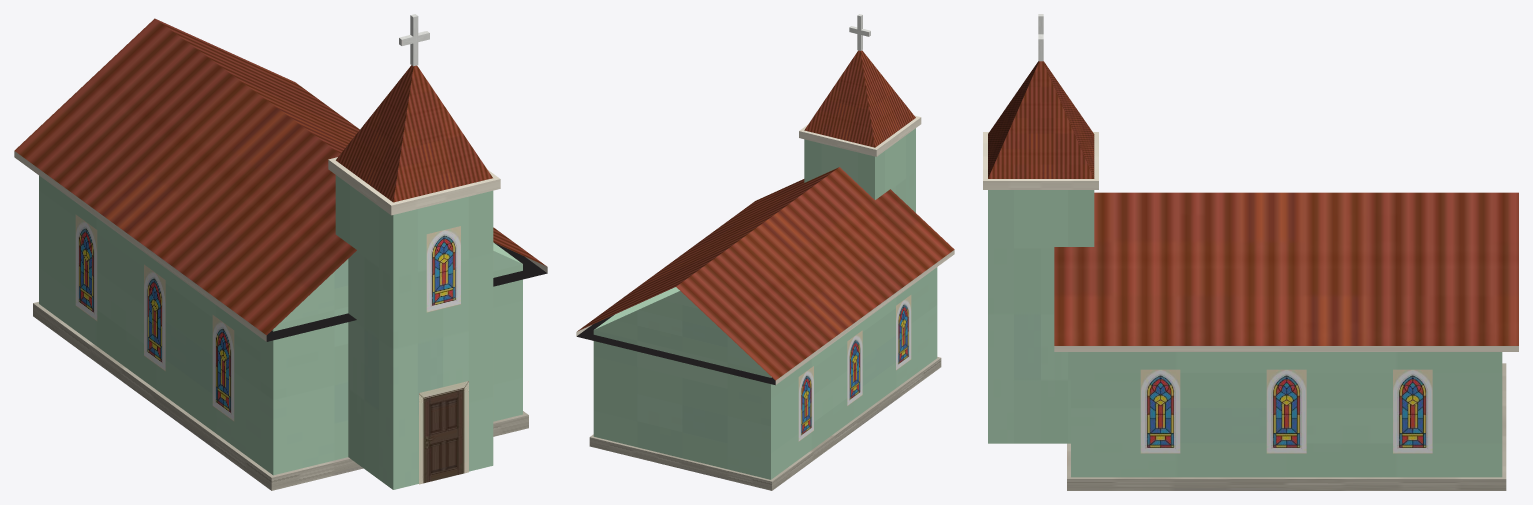
File: church-mint-far.glb
3 renders of one model, left to right at view 1: azimuth 30°, elevation 25°; view 2: azimuth 150°, elevation 25°; view 3: azimuth 270°, elevation 25°, orthographic. The views are drawn at different scales.
Parts seen in each view (by area): view 1: church-mint-far; view 2: church-mint-far; view 3: church-mint-far.
Boxes of the visible parts, x1,y1,x2,y2 form: church-mint-far: (14, 14, 547, 490); church-mint-far: (576, 14, 954, 490); church-mint-far: (983, 14, 1518, 490).
Size of the model in its own units: 9 by 13.9 by 16.15.
1 material, 1 textured.
